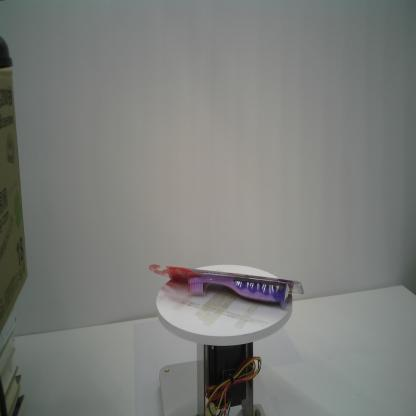Personal Hygiene: (147, 264, 304, 310)
